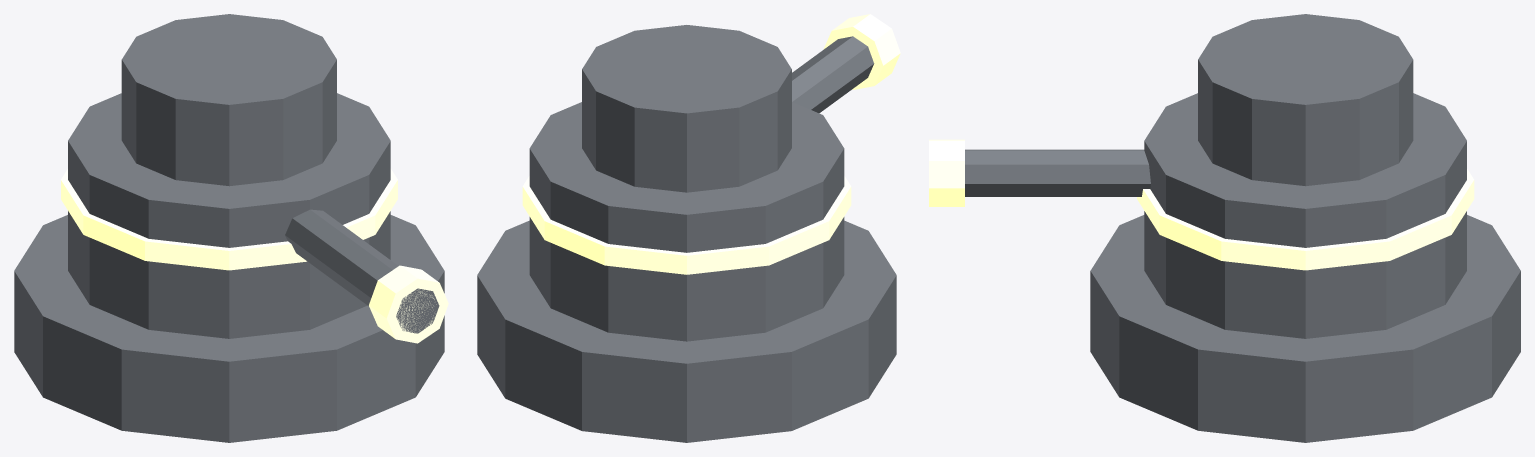
The model's file is turret.glb.
The picture shows the model from 3 angles, left to right: view 1: azimuth 30°, elevation 25°; view 2: azimuth 150°, elevation 25°; view 3: azimuth 270°, elevation 25°; orthographic projection. The views are drawn at different scales.
Visible parts, largest first — view 1: turret; view 2: turret; view 3: turret.
Part boxes in pixels (box(x1,y1,x2,y2)): turret: box(14, 14, 448, 442); turret: box(477, 14, 900, 442); turret: box(929, 14, 1520, 442).
Size of the model in its own units: 1.2 by 0.9 by 1.65.
